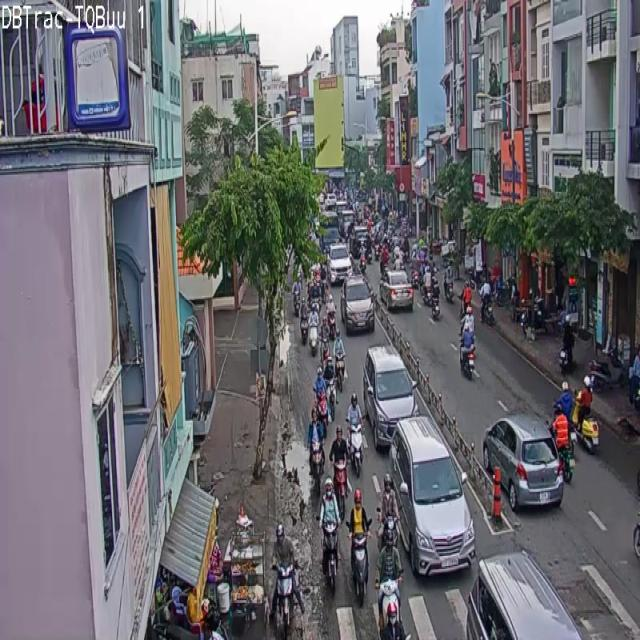car: (270, 525, 303, 639), (350, 489, 370, 604), (321, 478, 338, 590), (378, 580, 408, 639), (330, 427, 347, 521), (346, 395, 362, 474)
traffic-light: (390, 415, 474, 576), (483, 415, 563, 511), (364, 347, 418, 449), (341, 274, 374, 333)
